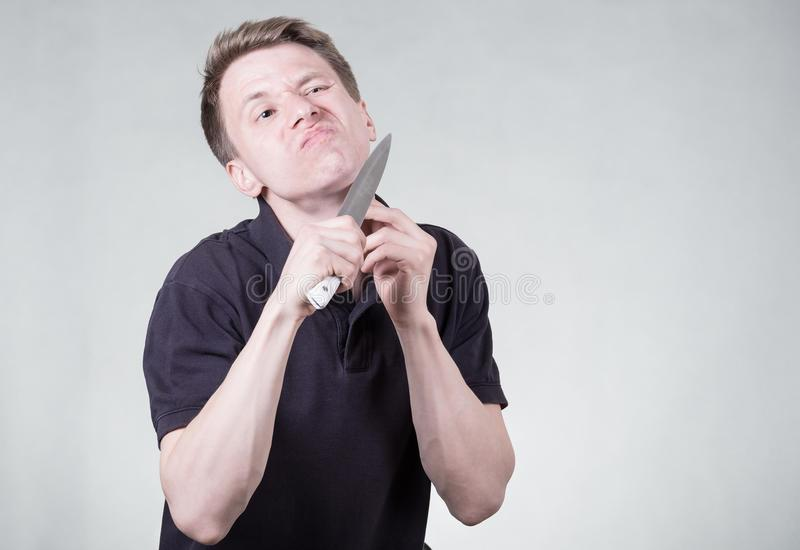criminal: (141, 14, 518, 550)
weapon: (305, 129, 397, 311)
